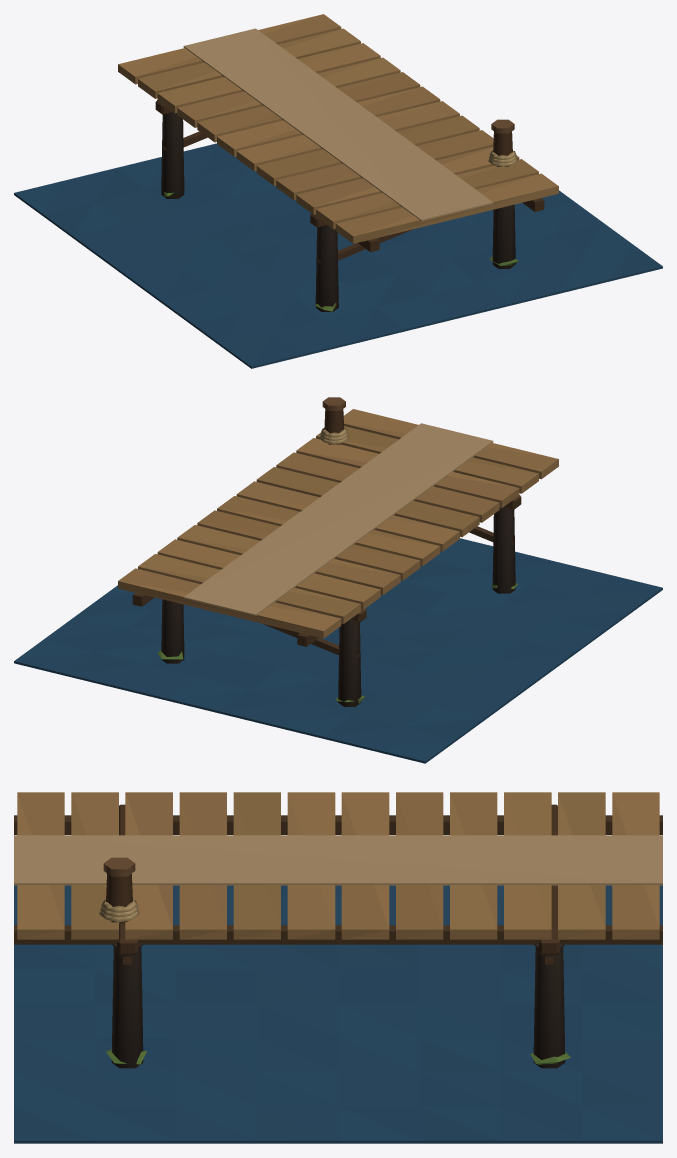
The model's file is jetty-pier.glb.
3 views of the same model, one above another, from view 1: azimuth 30°, elevation 25°; view 2: azimuth 150°, elevation 25°; view 3: azimuth 270°, elevation 25° (orthographic). The views are drawn at different scales.
Parts seen in each view (by area): view 1: jetty_pier; view 2: jetty_pier; view 3: jetty_pier.
Part boxes in pixels (left/top/right/bottom): jetty_pier: left=14, top=14, right=662, bottom=368; jetty_pier: left=14, top=397, right=662, bottom=763; jetty_pier: left=14, top=792, right=662, bottom=1143.
Size of the model in its own units: 4 by 1.45 by 4.
